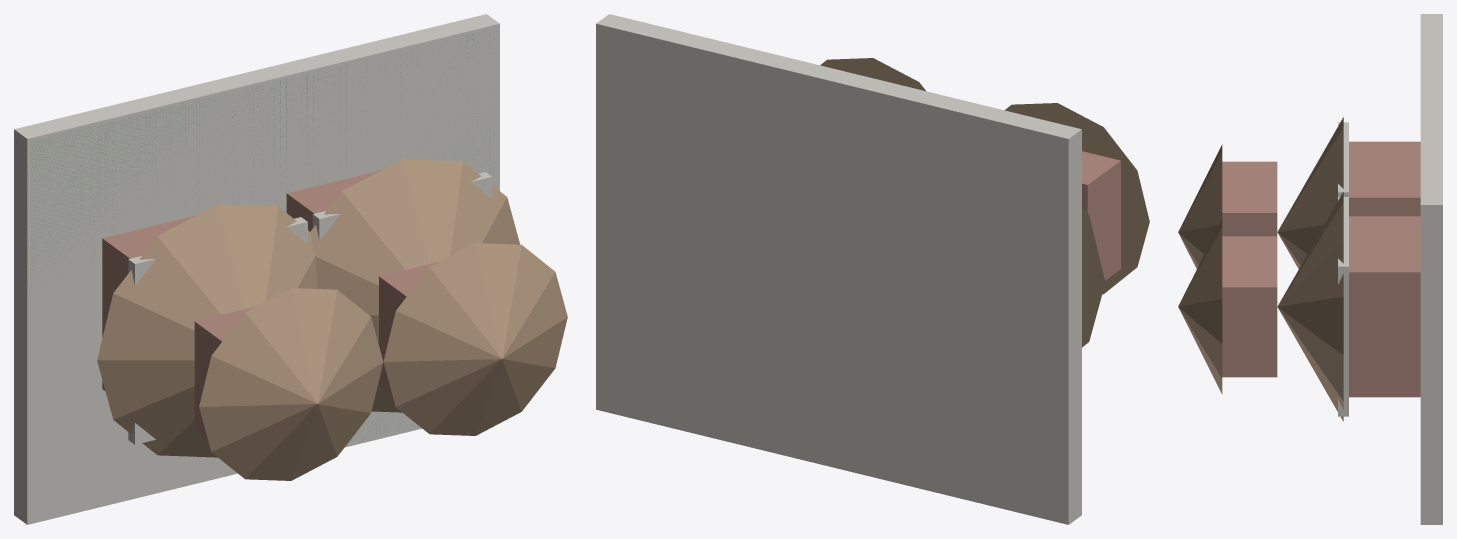
Rendered from chihkan.glb.
3 renders of one model, left to right at view 1: azimuth 30°, elevation 25°; view 2: azimuth 150°, elevation 25°; view 3: azimuth 270°, elevation 25°, orthographic. The views are drawn at different scales.
Visible parts, largest first — view 1: g0, g4, g11, g6, g9, g1, g2, g5, g10, g7, g3, g8; view 2: g0, g6, g5, g4, g11; view 3: g7, g0, g10, g9, g2, g5, g4, g11, g6, g8, g3.
Boxes of the visible parts, bbox=[...] form: g0: bbox=[14, 14, 499, 524]; g4: bbox=[97, 204, 317, 457]; g11: bbox=[383, 243, 567, 435]; g6: bbox=[199, 288, 383, 480]; g9: bbox=[310, 159, 519, 412]; g1: bbox=[30, 31, 496, 472]; g2: bbox=[102, 204, 240, 390]; g5: bbox=[194, 306, 255, 439]; g10: bbox=[379, 261, 440, 394]; g7: bbox=[286, 159, 424, 231]; g3: bbox=[128, 217, 307, 444]; g8: bbox=[312, 172, 492, 240]; g0: bbox=[596, 14, 1081, 524]; g6: bbox=[1005, 103, 1149, 294]; g5: bbox=[1082, 151, 1120, 280]; g4: bbox=[1082, 206, 1105, 347]; g11: bbox=[820, 58, 925, 90]; g7: bbox=[1349, 216, 1420, 397]; g0: bbox=[1420, 14, 1442, 524]; g10: bbox=[1222, 236, 1277, 377]; g9: bbox=[1277, 192, 1343, 421]; g2: bbox=[1349, 141, 1420, 216]; g5: bbox=[1222, 161, 1277, 236]; g4: bbox=[1277, 117, 1343, 268]; g11: bbox=[1178, 219, 1222, 394]; g6: bbox=[1178, 144, 1222, 268]; g8: bbox=[1338, 197, 1348, 416]; g3: bbox=[1338, 122, 1348, 196].
Size of the model in its own units: 82 by 64 by 48.
